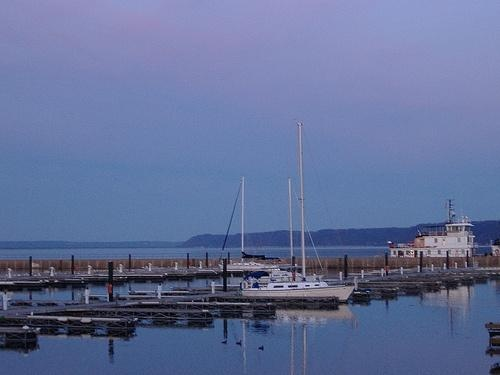boat: (240, 122, 358, 301), (251, 175, 323, 283), (221, 176, 280, 274), (393, 218, 478, 256)
